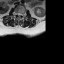CCS_normal: (18, 11, 20, 18)
LFS_normal: (22, 12, 23, 18)
LLS_normal: (20, 11, 22, 17)
RFS_normal: (15, 10, 17, 16)
RLS_normal: (17, 11, 18, 17)
